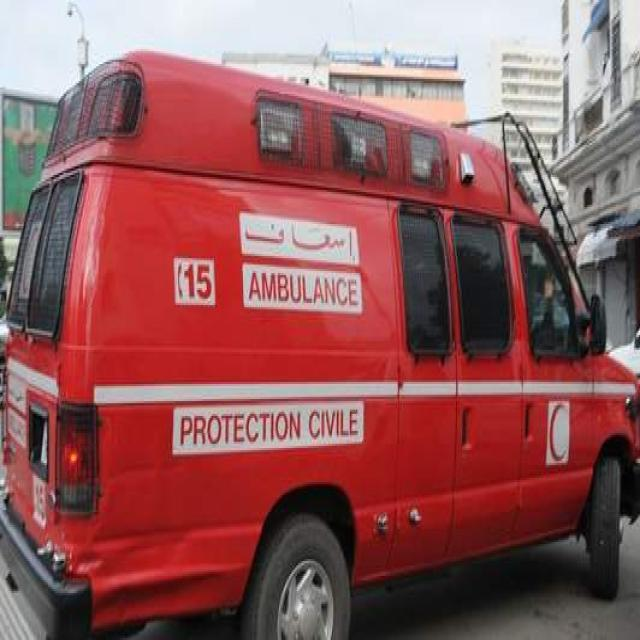ambulance: (6, 31, 640, 626)
